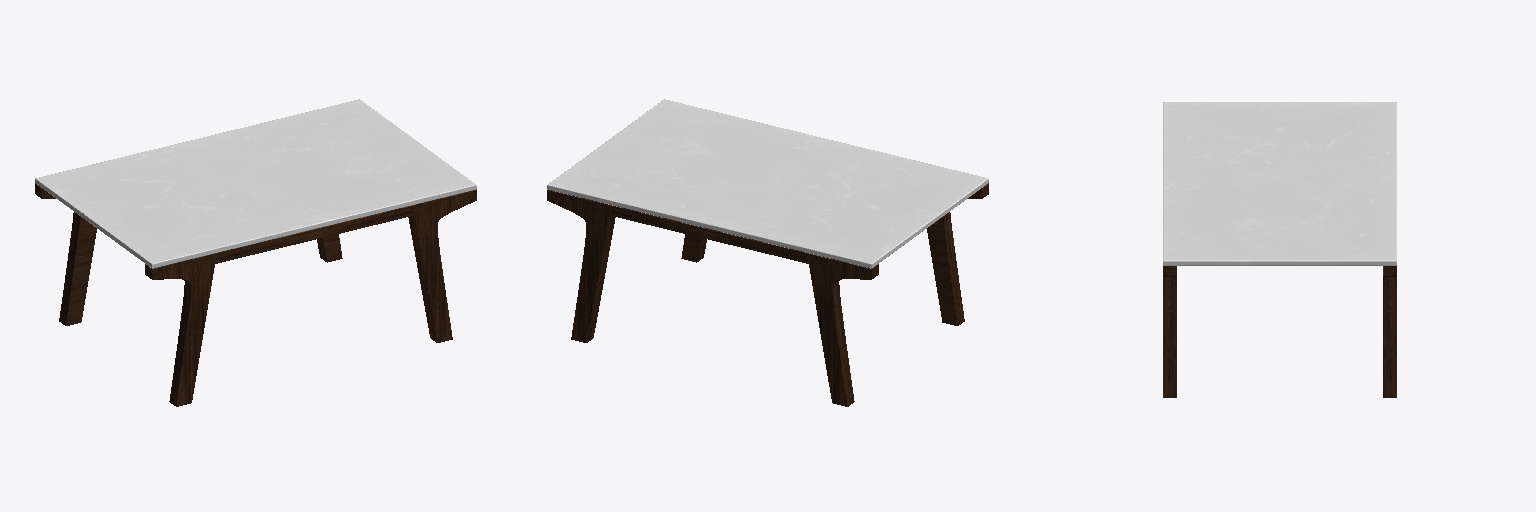
3 views of the same model, side by side, from view 1: azimuth 30°, elevation 25°; view 2: azimuth 150°, elevation 25°; view 3: azimuth 270°, elevation 25° (orthographic).
Parts seen in each view (by area): view 1: Plane.001, Plane.002, Plane.004; view 2: Plane.001, Plane.002, Plane.004; view 3: Plane.001, Plane.002.
Boxes of the visible parts, box(x1,y1,x2,y2) form: Plane.001: box(35, 99, 476, 268); Plane.002: box(35, 183, 476, 406); Plane.004: box(215, 206, 413, 263); Plane.001: box(547, 99, 988, 268); Plane.002: box(547, 183, 988, 406); Plane.004: box(610, 206, 808, 263); Plane.001: box(1163, 102, 1396, 265); Plane.002: box(1163, 266, 1396, 397).
Size of the model in its own units: 2.22 by 0.9726 by 1.39.
1 materials, 1 textured.